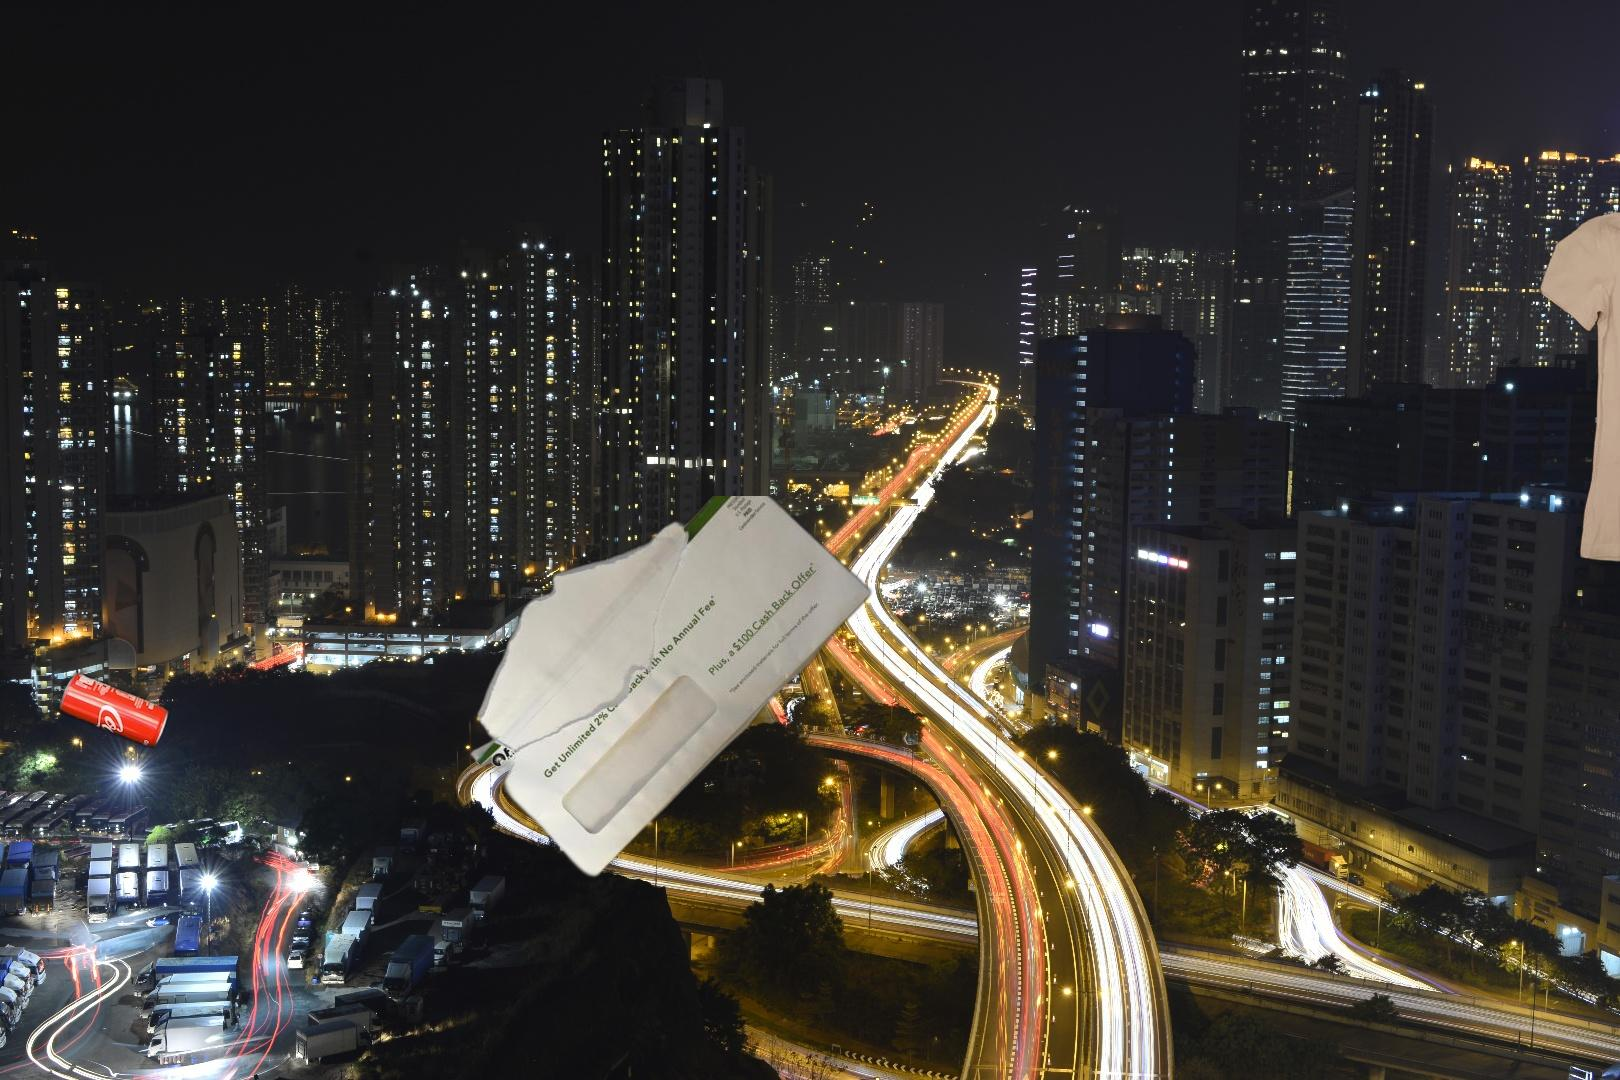clothes: (1538, 192, 1620, 566)
metal-cans: (54, 666, 173, 754)
paper: (420, 496, 875, 880)
